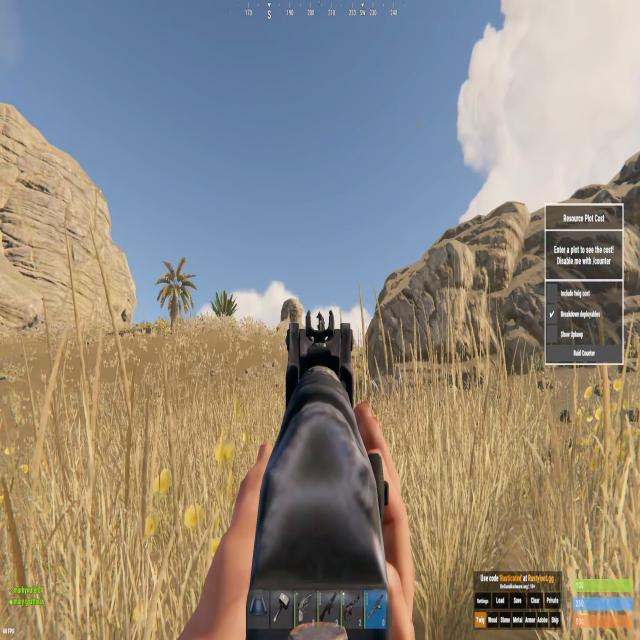Player: (316, 308, 326, 332)
